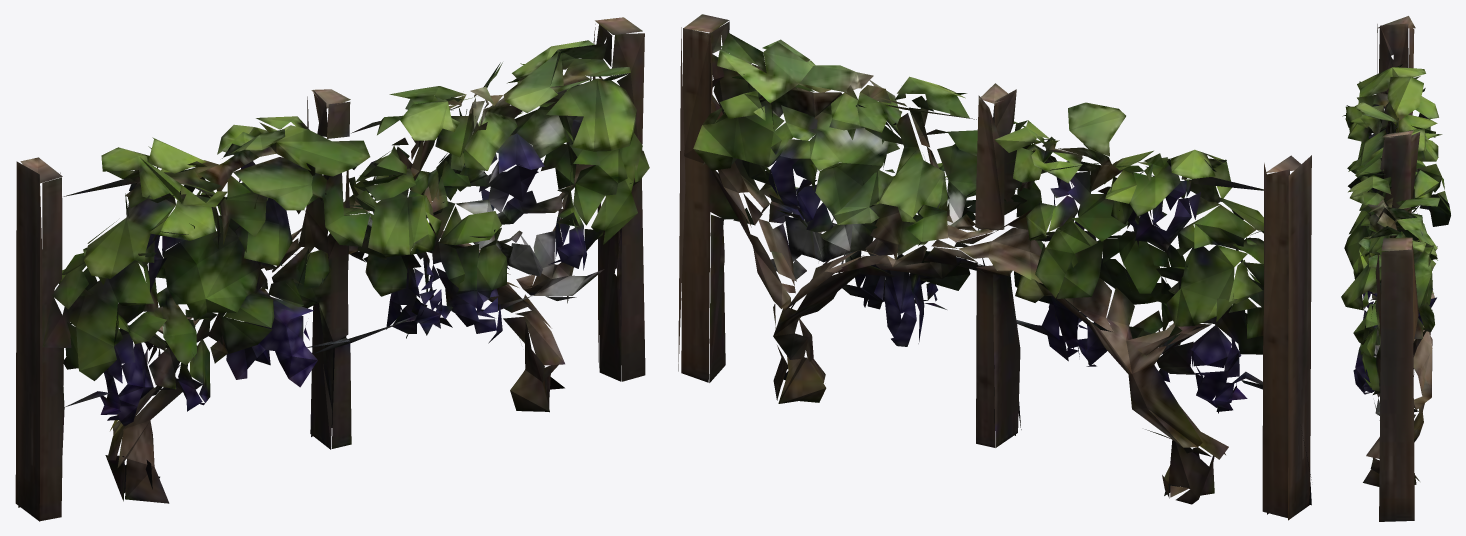
File: vina.glb
3 renders of one model, left to right at view 1: azimuth 30°, elevation 25°; view 2: azimuth 150°, elevation 25°; view 3: azimuth 270°, elevation 25°, orthographic. The views are drawn at different scales.
Visible parts, largest first — view 1: vina; view 2: vina; view 3: vina.
Boxes of the visible parts, x1=… form: vina: x1=15, y1=17, x2=649, y2=521; vina: x1=678, y1=14, x2=1311, y2=520; vina: x1=1341, y1=16, x2=1450, y2=521.
Bounding box in the file's own units: 1.78 × 1.01 × 0.3555.
Materials: 1 (1 with a texture image).
